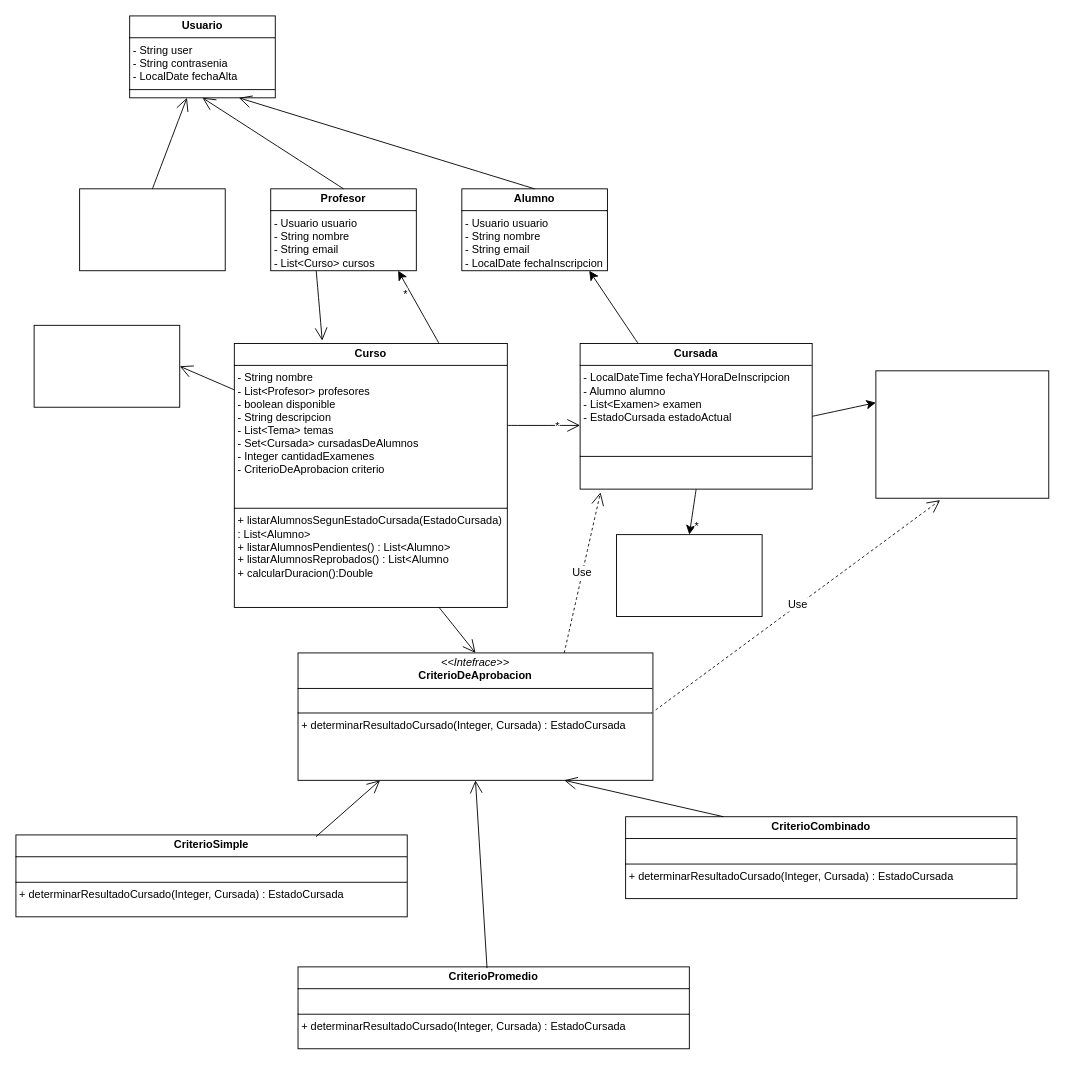
This 1065x1065 diagram has some shape labels left out. Here are the shapes that lost their labels. From the top down, the centre of each, then its label:
At point (152, 229): "Administrador - Usuario usuario - String nombre - String email + method(): Type".
At point (106, 365): "Tema - String titulo - String descripcion - Double duracionHrs + method(): Type".
At point (962, 434): "<<Enum>> EstadoCursada APROBADA REPROBADA PENDIENTE".
At point (689, 575): "Examen - LocalDate fechaTomada - String titulo - Double nota + method(): Type".
